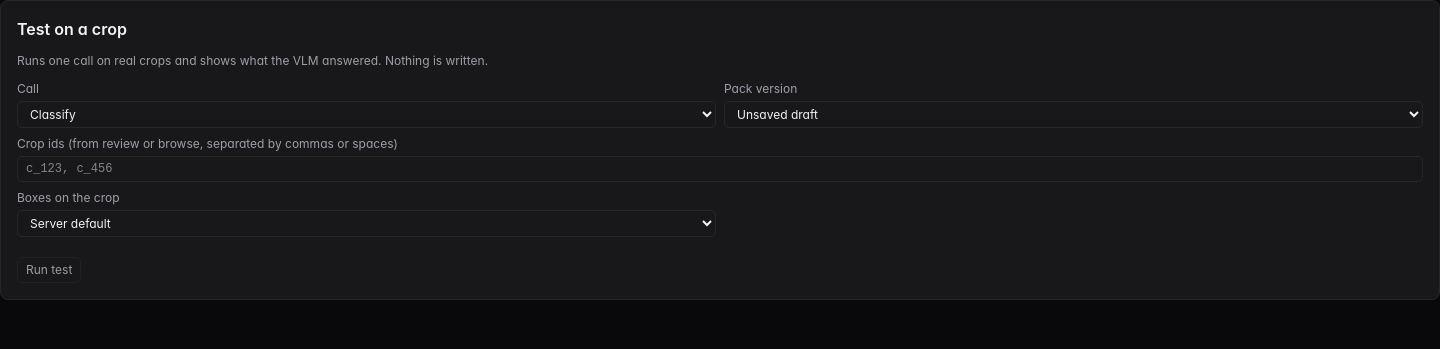
PackTestPanel › shows a refusal verbatim
In the field: [720, 169] box [17,156,1423,182], type "c_1"
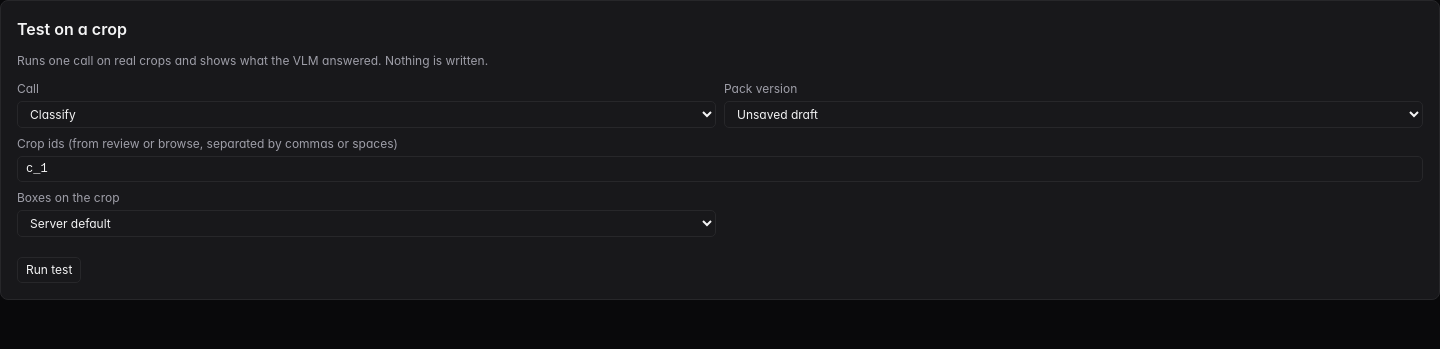
Click the button "Run test": [49, 270] box [17,257,81,283]
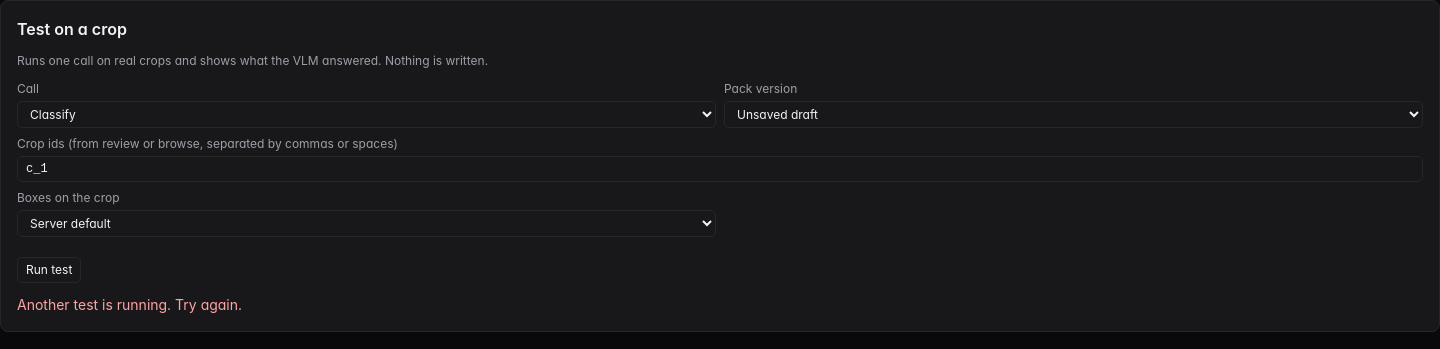
Expected: the element showing "Another test is running. Try again." is shown, [17,296,242,313]
